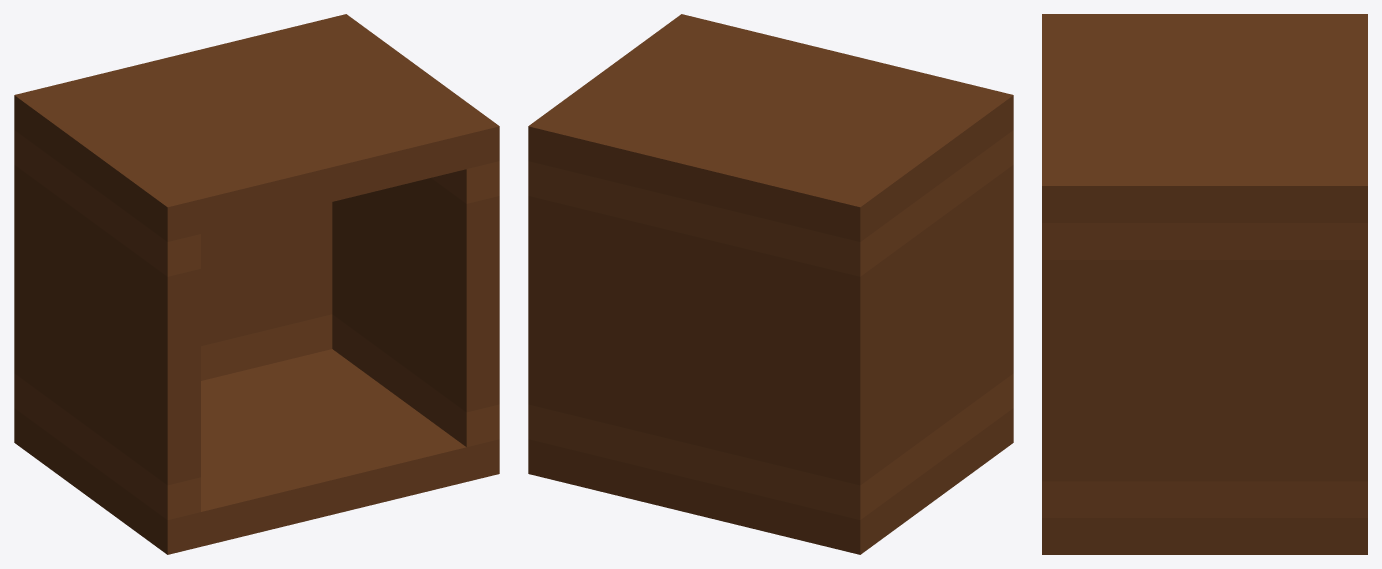
The model's file is wall_storage_back.dae.
The picture shows the model from 3 angles, left to right: view 1: azimuth 30°, elevation 25°; view 2: azimuth 150°, elevation 25°; view 3: azimuth 270°, elevation 25°; orthographic projection. The views are drawn at different scales.
Parts seen in each view (by area): view 1: PlaneCOL; view 2: PlaneCOL; view 3: PlaneCOL.
Boxes of the visible parts, x1,y1,x2,y2 form: PlaneCOL: (14,14,499,554); PlaneCOL: (528,14,1013,554); PlaneCOL: (1042,14,1367,554).
Bounding box in the file's own units: 1 × 0.8 × 1.
